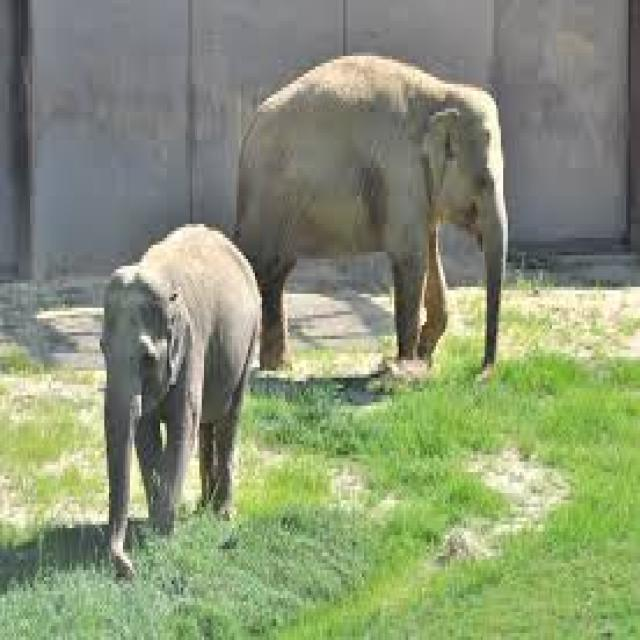Elephant: (229, 52, 508, 378), (97, 220, 262, 580)
